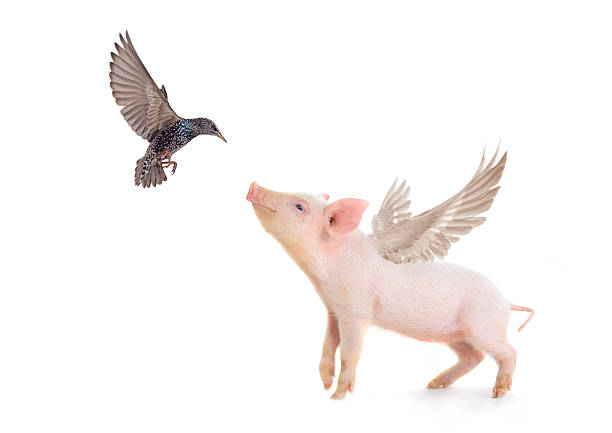Bird: (104, 27, 228, 189)
